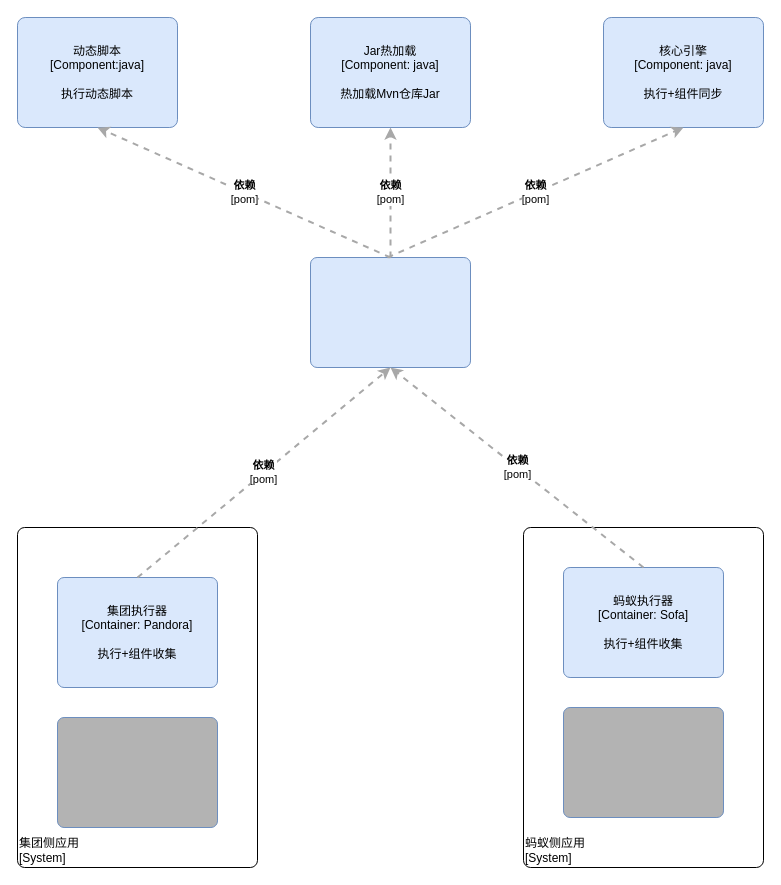
This 781x885 diagram has some shape labels left out. The centre of each missing label's shape, as x and y in pixels:
执行引擎 [Container: Spring ] 执行入口: the point at 390,312
蚂蚁应用 [Container: Sofa Boot ] 热加载组件插件: the point at 643,762
集团应用 [Container: Pandora Boot ] 热加载组件插件: the point at 137,772
